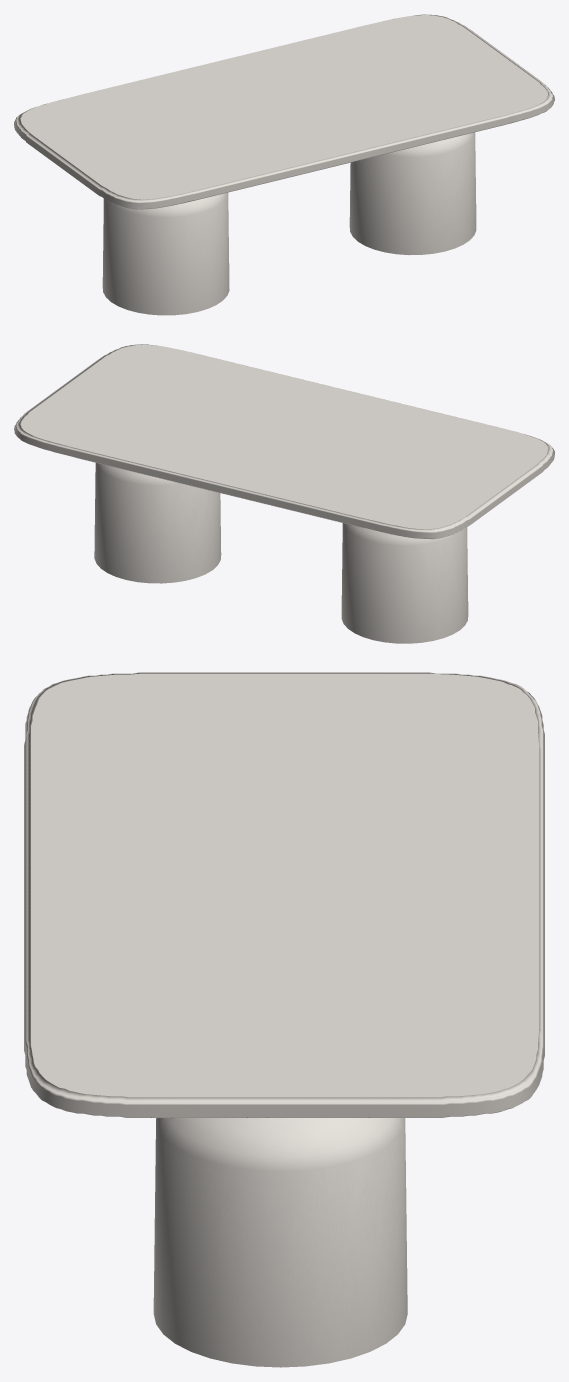
The model's file is pearlwhite_softrecta_round_tornado.glb.
The picture shows the model from 3 angles, top to bottom: view 1: azimuth 30°, elevation 25°; view 2: azimuth 150°, elevation 25°; view 3: azimuth 270°, elevation 25°; orthographic projection. The views are drawn at different scales.
Visible parts, largest first — view 1: round_softrecta, tornado; view 2: round_softrecta, tornado; view 3: round_softrecta, tornado.
Part boxes in pixels (bbox=[...]): round_softrecta: bbox=[14, 14, 554, 209]; tornado: bbox=[102, 132, 476, 315]; round_softrecta: bbox=[14, 344, 554, 539]; tornado: bbox=[94, 463, 468, 643]; round_softrecta: bbox=[24, 672, 544, 1117]; tornado: bbox=[153, 1118, 407, 1367].
Size of the model in its own units: 7.68 by 2.5 by 3.9.
1 material, 1 textured.
